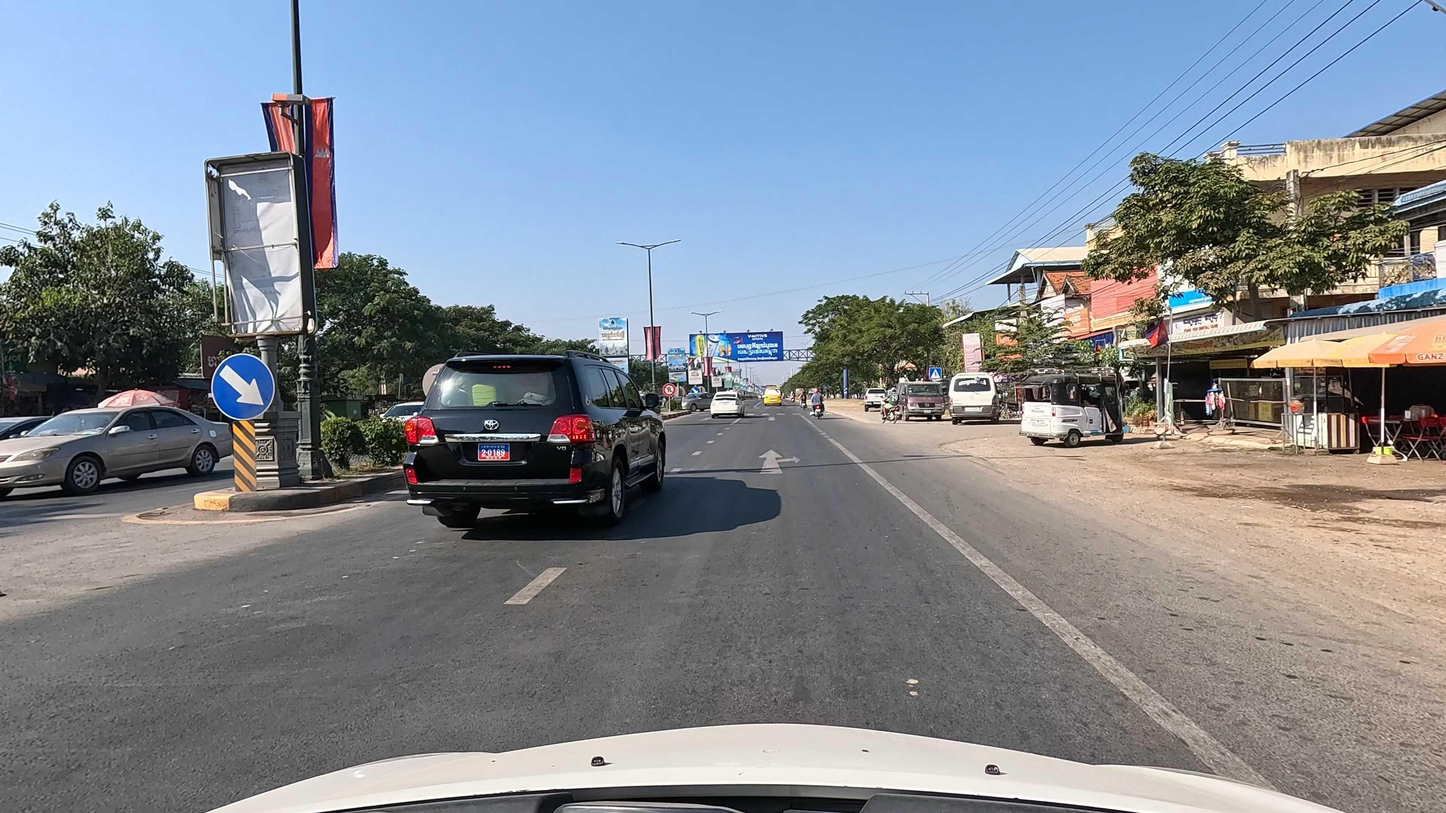keep_right: (211, 353, 275, 425)
no_u_turn: (661, 382, 678, 399)
pedestrian_crossing: (929, 366, 942, 382)
